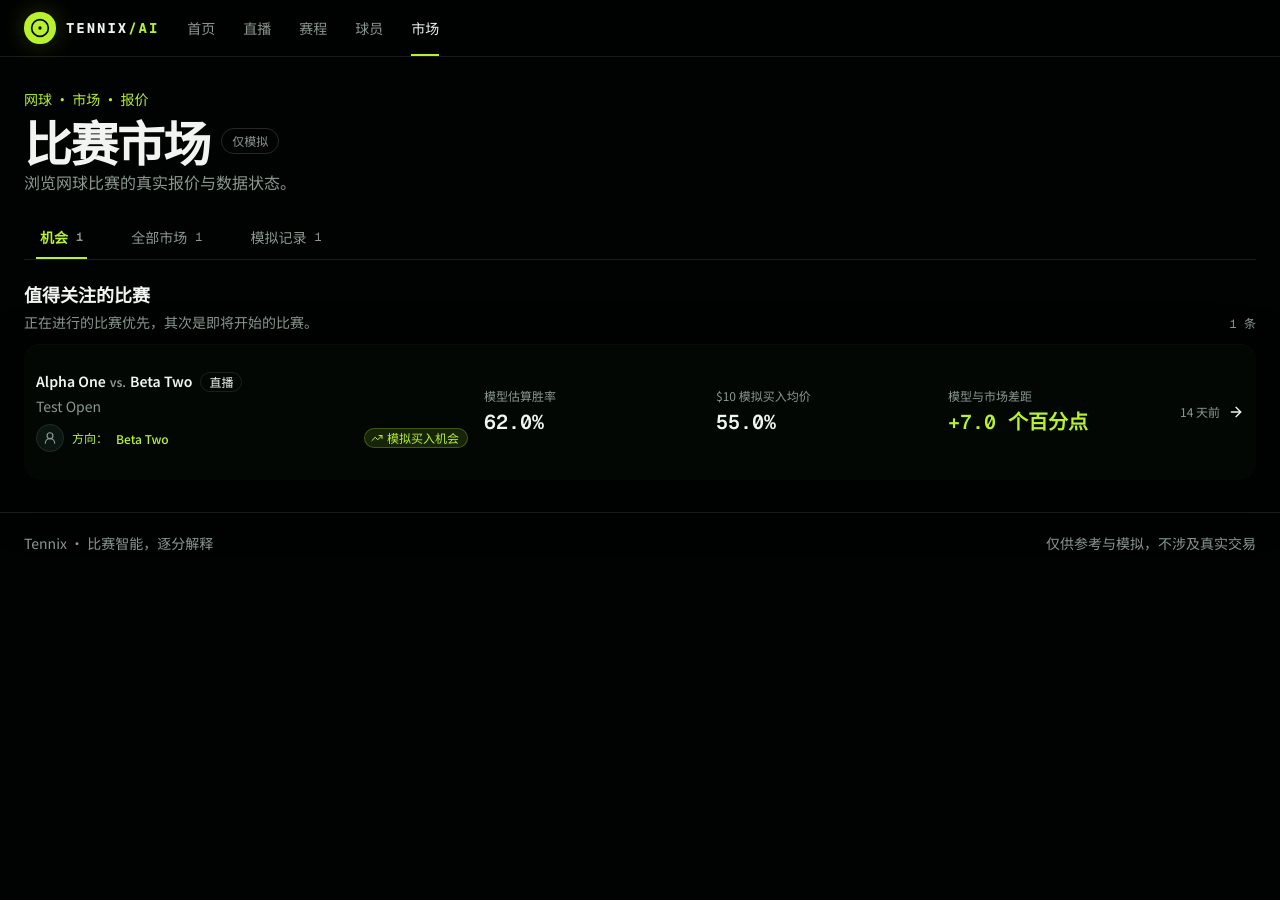
Test: MarketsWorkspace (production) › keeps the market list focused on player quotes instead of model details
The width and height of the screenshot is (1280, 900).
Click the tab "全部市场 1": (167,237) [115,215,218,259]
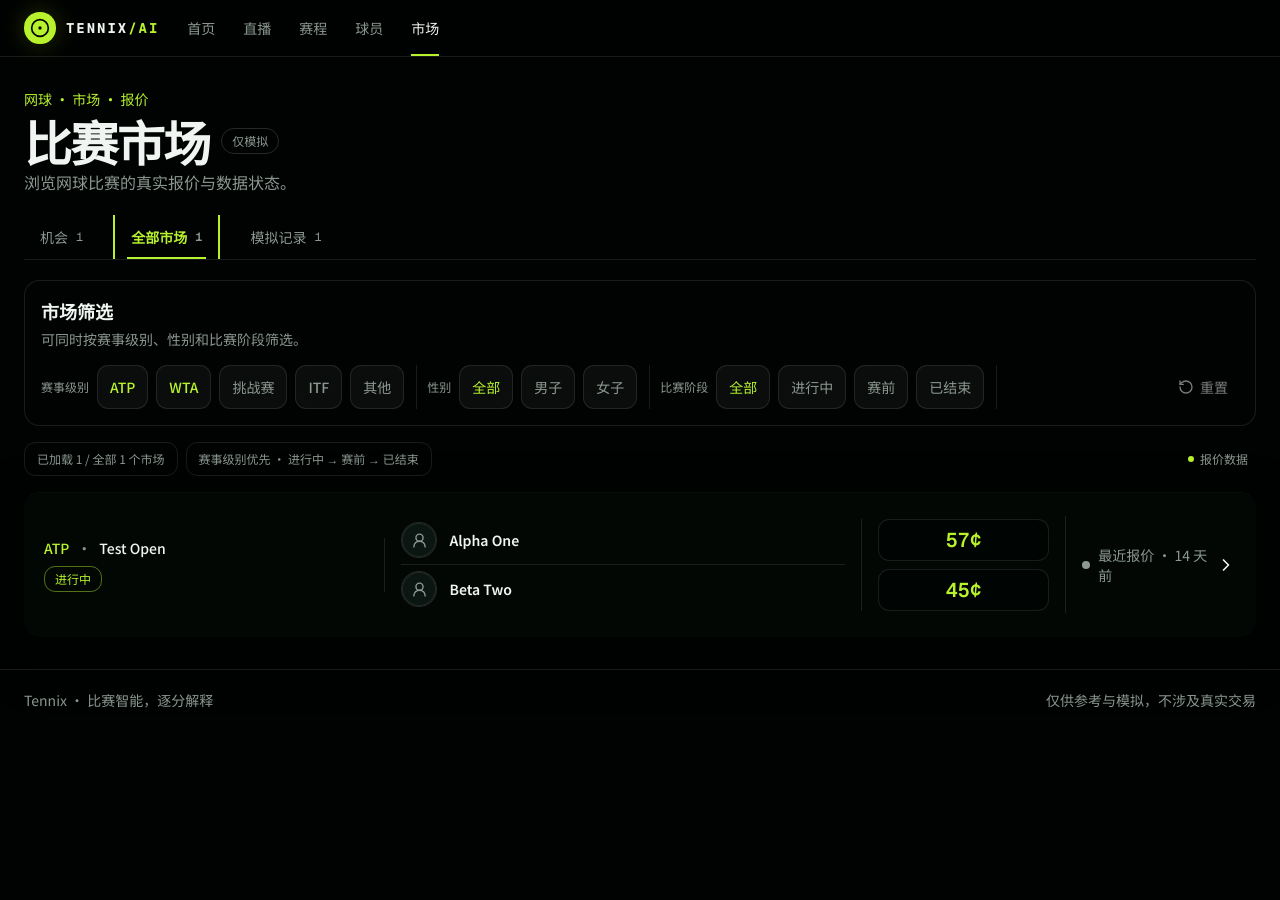
Expected: the link "ATP·Test Open 进行中 Alpha One Beta Two 57¢ 45¢ 最近报价 · 14 天前" is shown, [24,492,1256,637]
